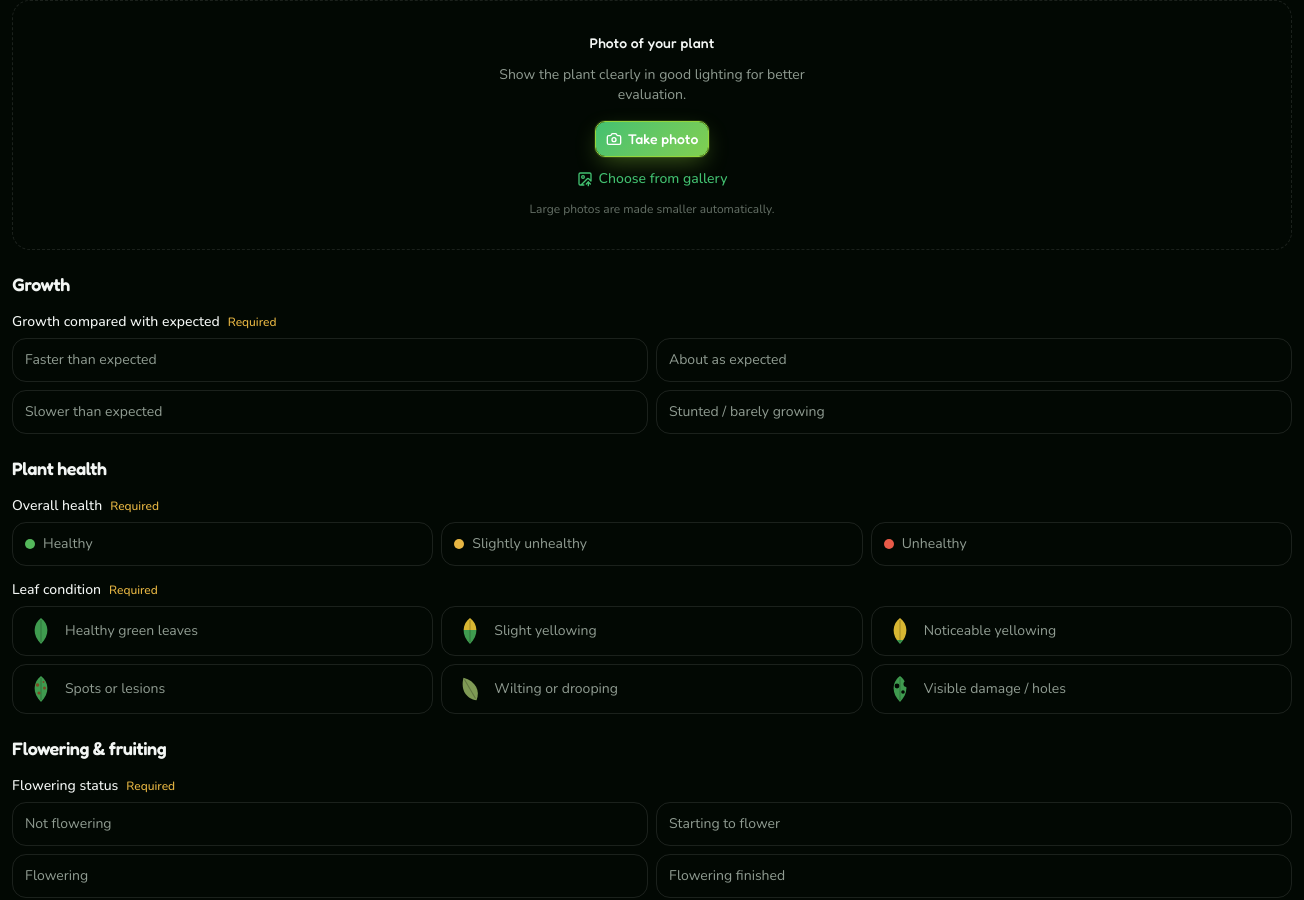
Test: Weekly assessment: what is still needed › drops the Required mark once a question is answered
Click the radio button labelled "Healthy green leaves".
click(41, 631)  # box left=12, top=606, right=433, bottom=656
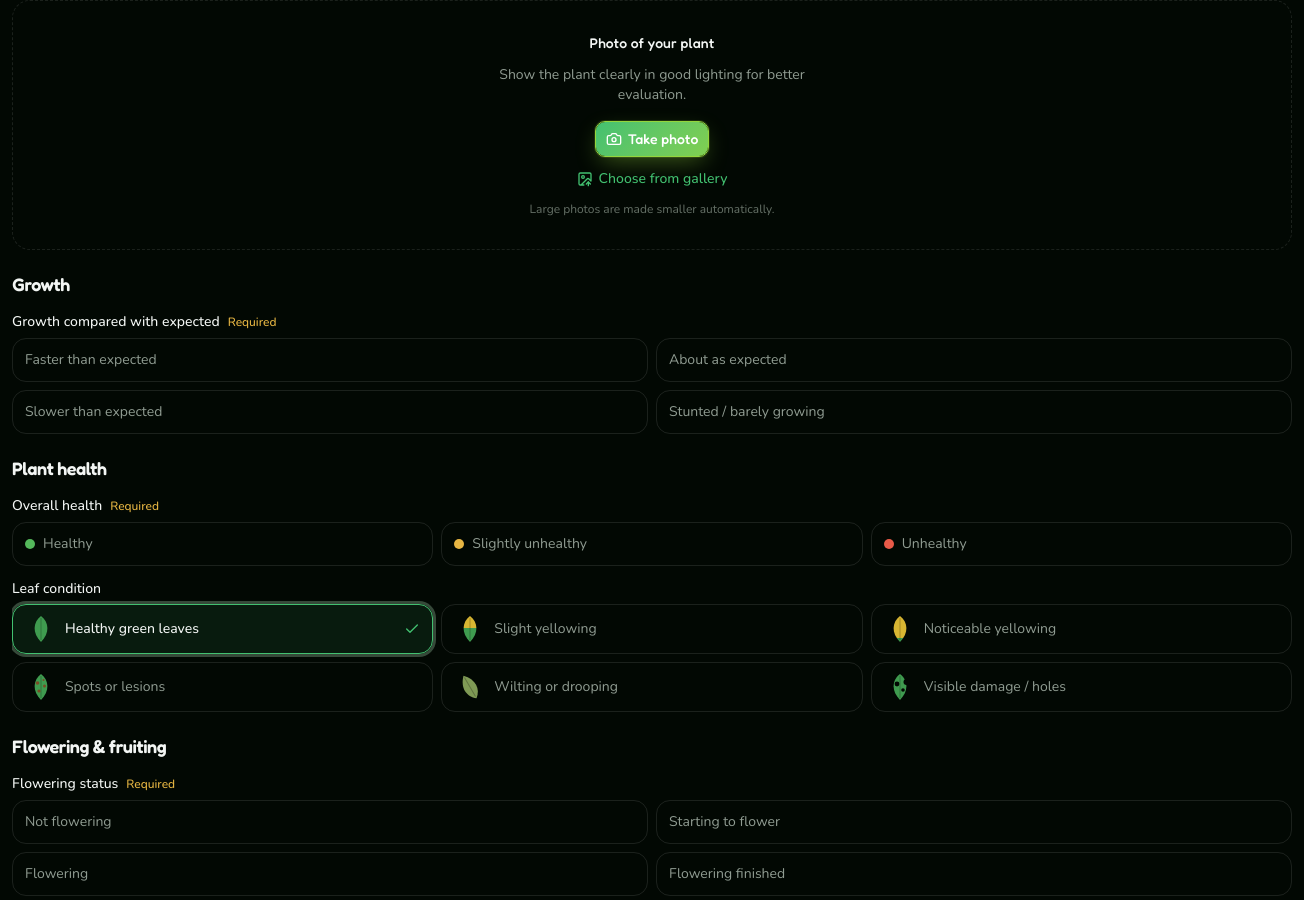
Expected: the text "Required" is shown 6 times
